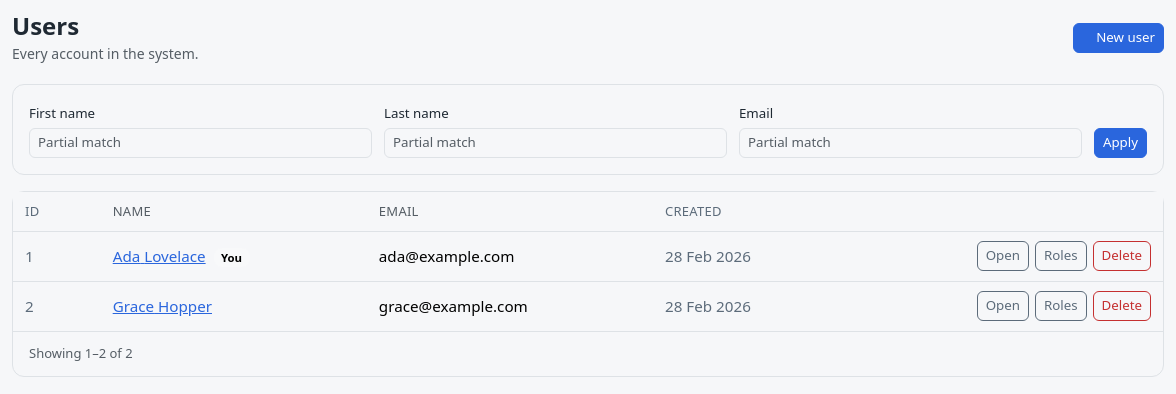
Test case: List screens › says so when a filter matches nothing
Expected: the link "Grace Hopper" is shown, [113,296,212,316]
Type "nobody" into the field labelled "Email" at {"x": 910, "y": 143}, box [739,128,1082,158]
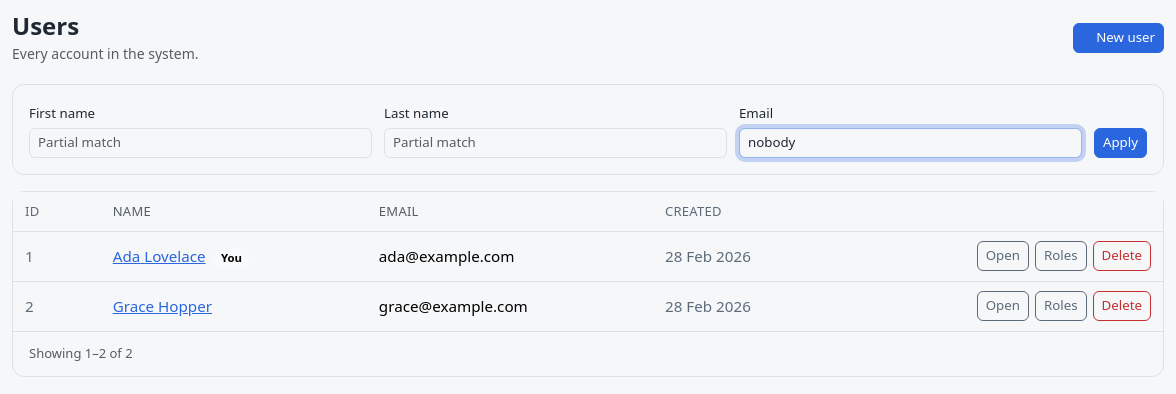
Click the button "Apply" at {"x": 1120, "y": 143}, box [1094,128,1147,158]
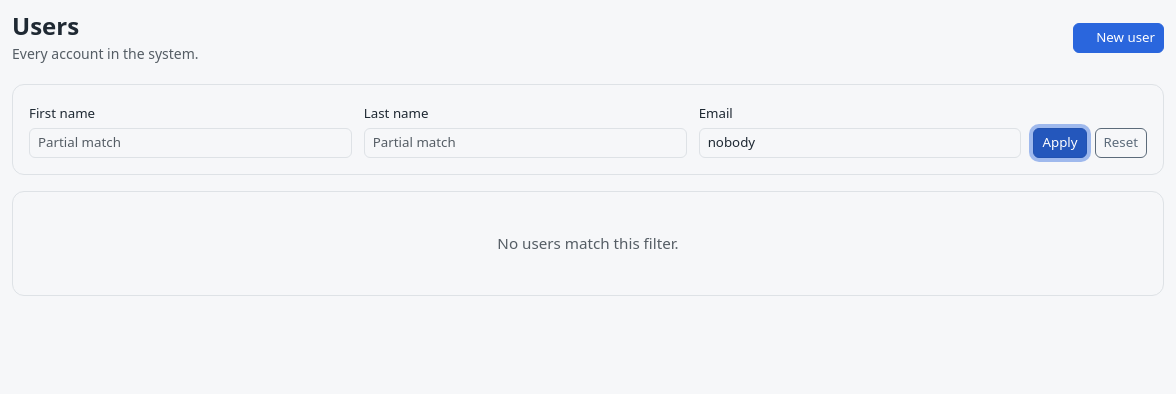
Result: the text "No users match this filter." is shown at [12,191,1164,296]
